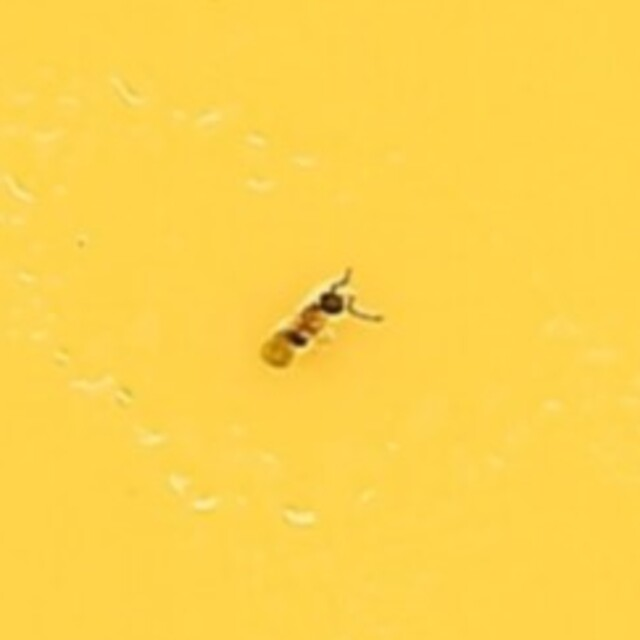Hymenoptera: (263, 268, 377, 372)
